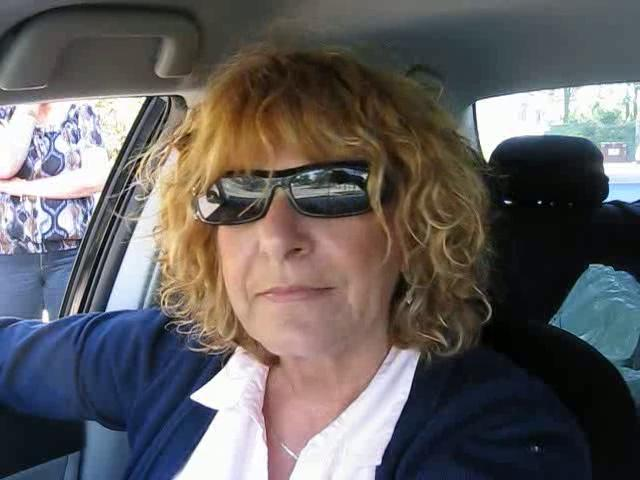no_yawn: (240, 263, 350, 321)
